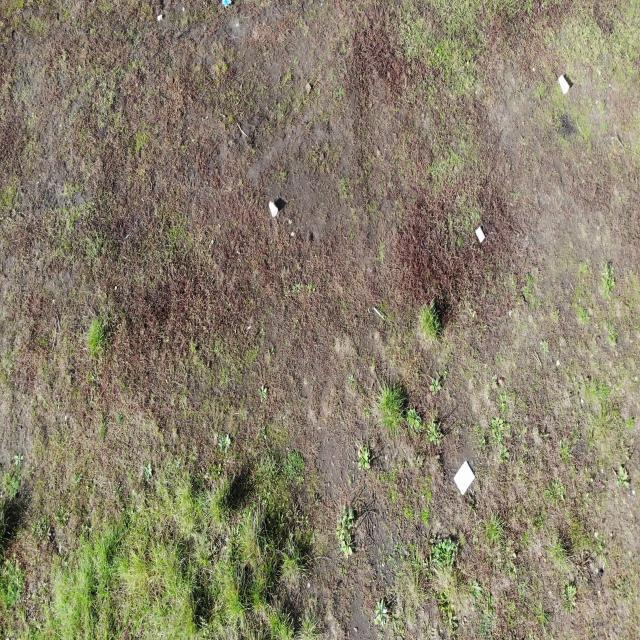rubbish: (453, 461, 478, 498), (556, 76, 571, 96), (475, 223, 486, 246), (267, 199, 279, 219), (222, 0, 231, 11)
